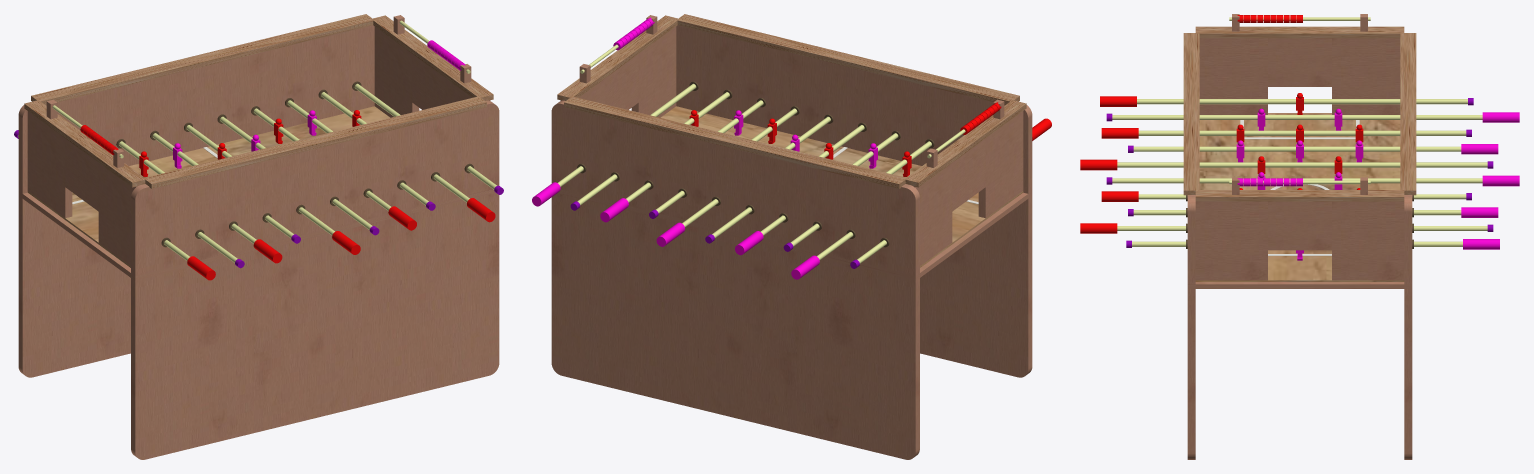
Rendered from Sports_Table_football__0014.glb.
3 views of the same model, side by side, from view 1: azimuth 30°, elevation 25°; view 2: azimuth 150°, elevation 25°; view 3: azimuth 270°, elevation 25° (orthographic). The views are drawn at different scales.
Parts seen in each view (by area): view 1: cabinet::side_panel_0, cabinet::side_panel_1, cabinet::side_rim_0, cabinet::side_rim_1, cabinet::pitch, cabinet::end_wall_0_post_b, cabinet::end_wall_1_post_b, cabinet::end_wall_0_post_a, cabinet::cabinet_base, cabinet::end_rim_0, cabinet::end_rim_1, cabinet::end_wall_0_lintel (+5 smaller); view 2: cabinet::side_panel_1, cabinet::side_panel_0, cabinet::side_rim_1, cabinet::side_rim_0, cabinet::pitch, cabinet::end_wall_0_post_a, cabinet::end_wall_1_post_a, cabinet::end_wall_0_post_b, cabinet::cabinet_base, cabinet::end_rim_0, cabinet::end_rim_1, cabinet::end_wall_0_lintel (+4 smaller); view 3: cabinet::pitch, cabinet::end_wall_1_post_a, cabinet::end_wall_1_post_b, cabinet::end_wall_0_post_a, cabinet::end_wall_0_post_b, cabinet::end_wall_1_lintel, cabinet::end_wall_0_lintel, cabinet::side_rim_0, cabinet::side_rim_1, cabinet::end_rim_0, cabinet::end_rim_1, cabinet::side_panel_1 (+14 smaller).
Part boxes in pixels (x1,y1,x2,y2): cabinet::side_panel_0: (131,100,499,459); cabinet::side_panel_1: (18,25,374,377); cabinet::side_rim_0: (144,96,486,188); cabinet::side_rim_1: (31,14,373,104); cabinet::pitch: (27,106,389,267); cabinet::end_wall_0_post_b: (27,111,72,218); cabinet::end_wall_1_post_b: (374,26,419,117); cabinet::end_wall_0_post_a: (98,163,138,265); cabinet::cabinet_base: (18,189,495,280); cabinet::end_rim_0: (24,100,146,187); cabinet::end_rim_1: (372,15,493,100); cabinet::end_wall_0_lintel: (65,139,98,211); cabinet::side_panel_1: (551,100,919,459); cabinet::side_panel_0: (676,25,1032,377); cabinet::side_rim_1: (564,96,905,188); cabinet::side_rim_0: (677,14,1019,104); cabinet::pitch: (661,106,1023,267); cabinet::end_wall_0_post_a: (978,111,1023,218); cabinet::end_wall_1_post_a: (631,26,676,117); cabinet::end_wall_0_post_b: (914,163,952,265); cabinet::cabinet_base: (557,189,1028,280); cabinet::end_rim_0: (905,100,1026,187); cabinet::end_rim_1: (557,15,678,100); cabinet::end_wall_0_lintel: (952,139,985,211); cabinet::pitch: (1195,113,1404,281); cabinet::end_wall_1_post_a: (1195,201,1267,280); cabinet::end_wall_1_post_b: (1332,201,1404,280); cabinet::end_wall_0_post_a: (1199,38,1267,114); cabinet::end_wall_0_post_b: (1332,38,1400,114); cabinet::end_wall_1_lintel: (1268,201,1331,250); cabinet::end_wall_0_lintel: (1268,38,1331,86); cabinet::side_rim_0: (1183,33,1199,195); cabinet::side_rim_1: (1400,33,1416,195); cabinet::end_rim_0: (1195,26,1404,38); cabinet::end_rim_1: (1195,190,1404,201); cabinet::side_panel_1: (1404,195,1412,459).
Size of the model in its own units: 1.26 by 0.9645 by 1.37.
Materials: 17 (4 with a texture image).
